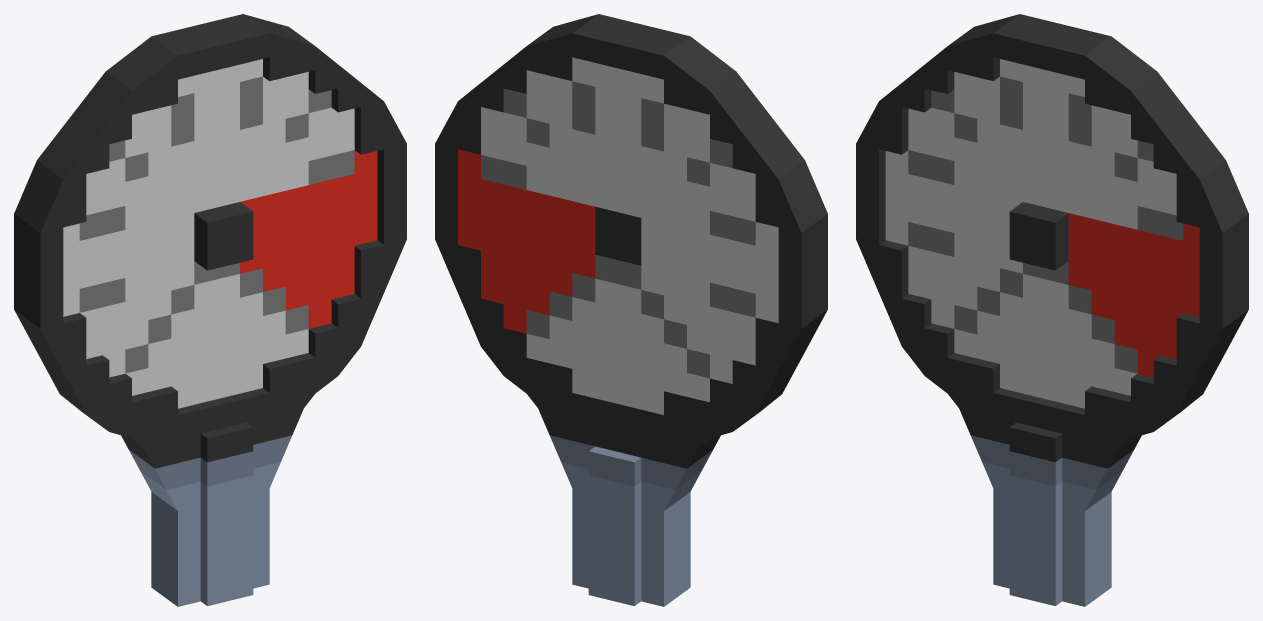
Rendered from Jauge_presure.glb.
3 views of the same model, side by side, from view 1: azimuth 30°, elevation 25°; view 2: azimuth 150°, elevation 25°; view 3: azimuth 330°, elevation 25° (orthographic).
Parts seen in each view (by area): view 1: generated(Clone); view 2: generated(Clone); view 3: generated(Clone).
Boxes of the visible parts, left/top/right/bottom form: generated(Clone): left=14, top=14, right=406, bottom=606; generated(Clone): left=435, top=14, right=827, bottom=606; generated(Clone): left=856, top=14, right=1248, bottom=606.
Size of the model in its own units: 1.6 by 2.3 by 0.3.
1 material, 1 textured.
